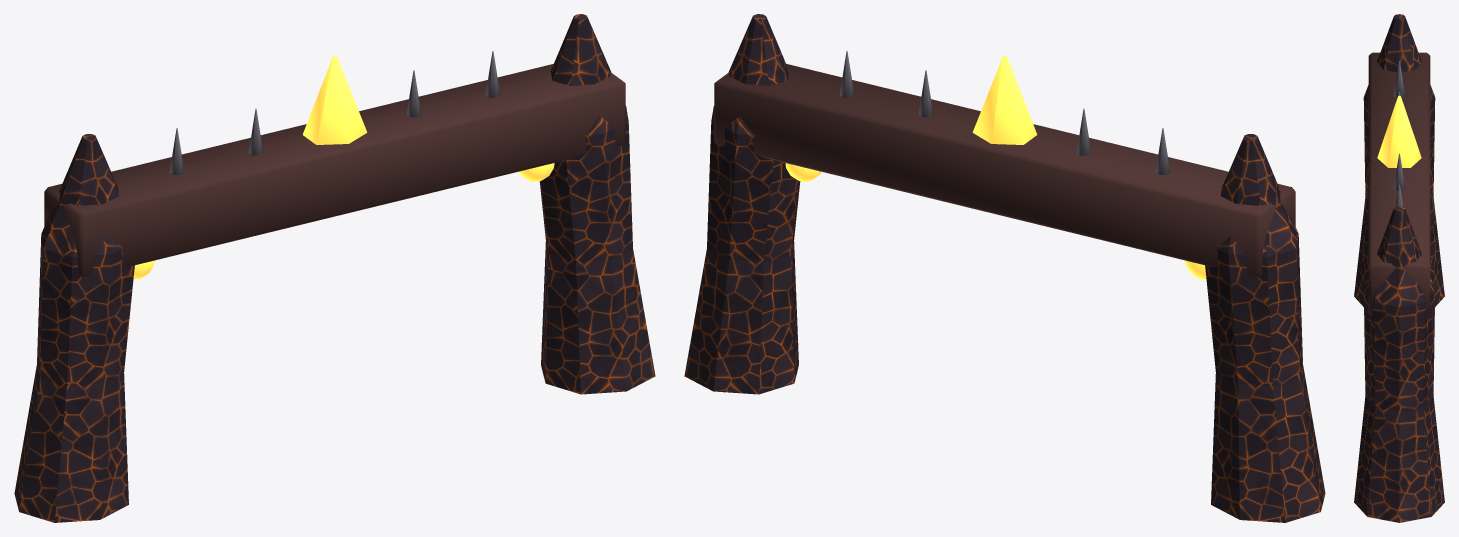
The model's file is prop_volcano_arch.glb.
3 renders of one model, left to right at view 1: azimuth 30°, elevation 25°; view 2: azimuth 150°, elevation 25°; view 3: azimuth 270°, elevation 25°, orthographic. The views are drawn at different scales.
Parts seen in each view (by area): view 1: VolcTower_-1.0; view 2: VolcTower_-1.0; view 3: VolcTower_-1.0.
Part boxes in pixels (x1,y1,x2,y2): VolcTower_-1.0: [14, 14, 655, 522]; VolcTower_-1.0: [684, 14, 1325, 522]; VolcTower_-1.0: [1354, 14, 1444, 522].
Bounding box in the file's own units: 36 × 20.6 × 5.6.
3 materials, 1 textured.
